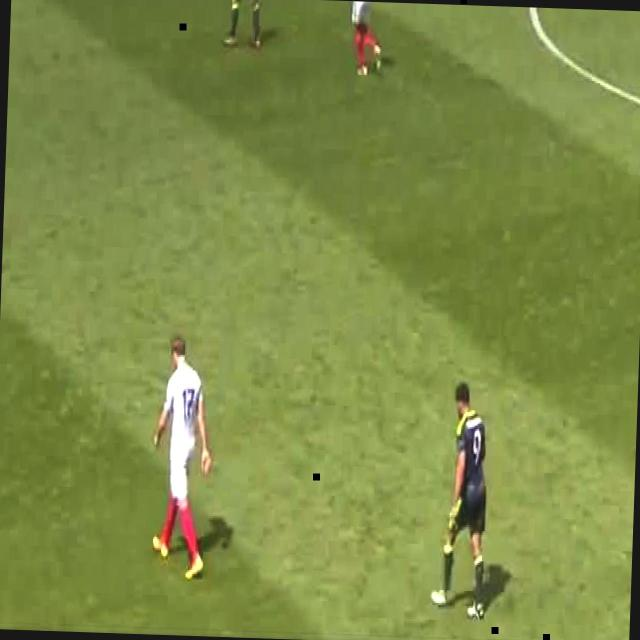player-white: (148, 338, 216, 578), (430, 381, 494, 619), (343, 0, 385, 76), (223, 0, 262, 48)
